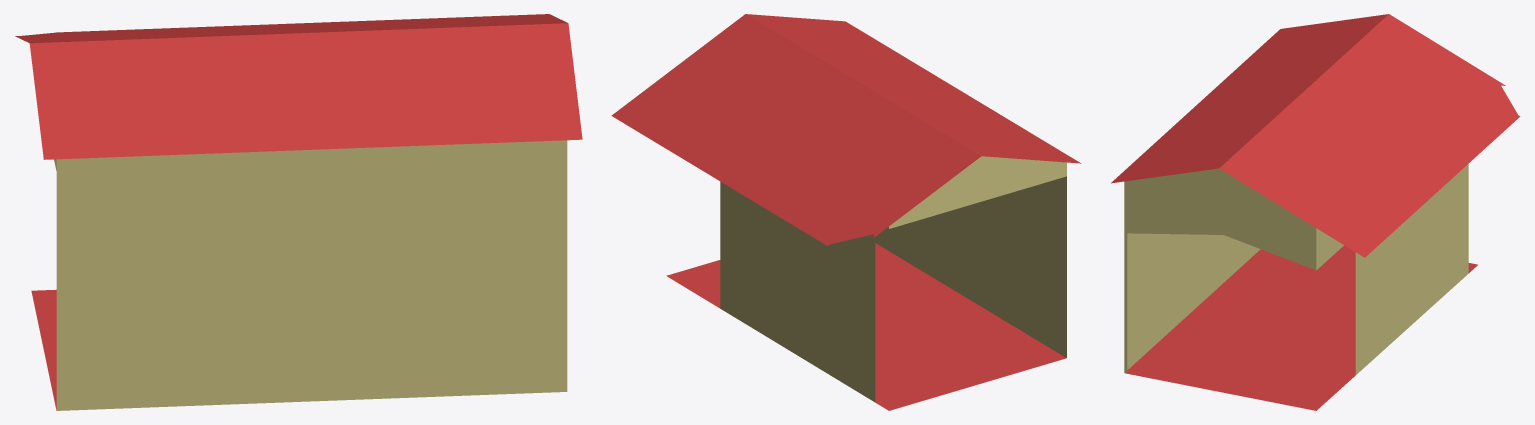
3 views of the same model, side by side, from view 1: azimuth 30°, elevation 25°; view 2: azimuth 150°, elevation 25°; view 3: azimuth 270°, elevation 25° (orthographic). The views are drawn at different scales.
Size of the model in its own units: 23.13 by 19.61 by 12.04.
